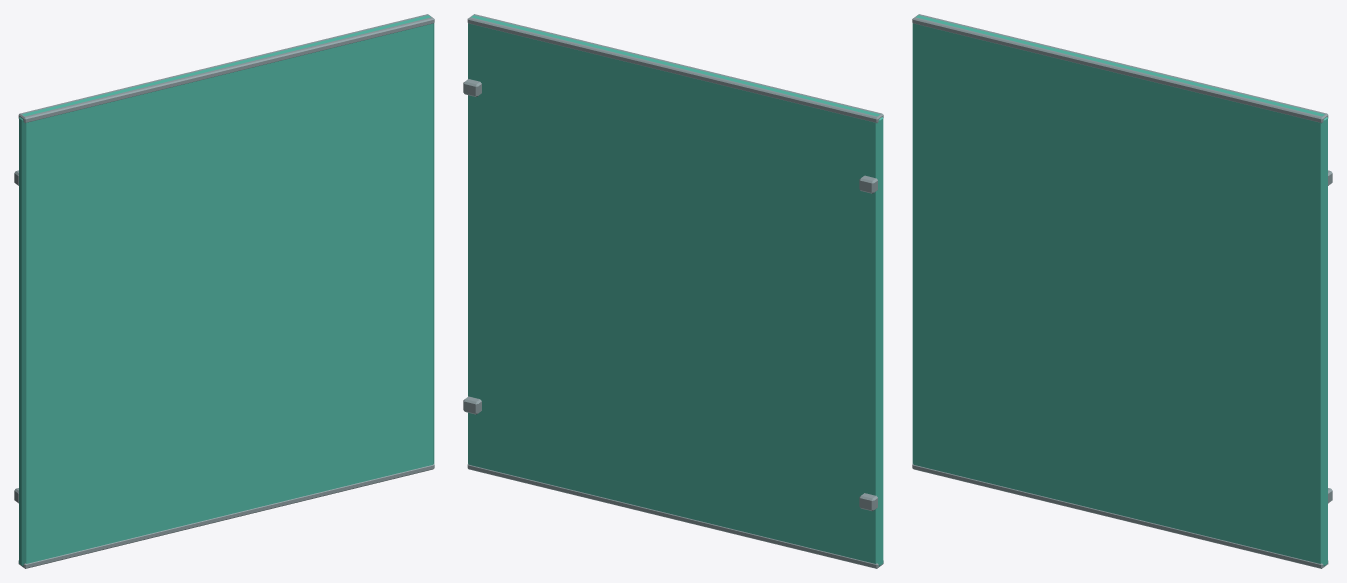
Rendered from Structure-StallPartition.fbx.
3 views of the same model, side by side, from view 1: azimuth 30°, elevation 25°; view 2: azimuth 150°, elevation 25°; view 3: azimuth 330°, elevation 25° (orthographic).
Parts seen in each view (by area): view 1: Laminate Panel, Edge Cap.001, Edge Cap; view 2: Laminate Panel, Edge Cap.001, Edge Cap; view 3: Laminate Panel, Edge Cap.001, Edge Cap.
Boxes of the visible parts, <box> form: Laminate Panel: <box>19,15,434,565</box>; Edge Cap.001: <box>18,14,434,123</box>; Edge Cap: <box>18,464,434,568</box>; Laminate Panel: <box>468,15,883,565</box>; Edge Cap.001: <box>467,14,883,123</box>; Edge Cap: <box>467,464,883,568</box>; Laminate Panel: <box>912,15,1327,565</box>; Edge Cap.001: <box>912,14,1328,123</box>; Edge Cap: <box>912,464,1328,568</box>.
Bounding box in the file's own units: 1.55 × 1.62 × 0.073.
